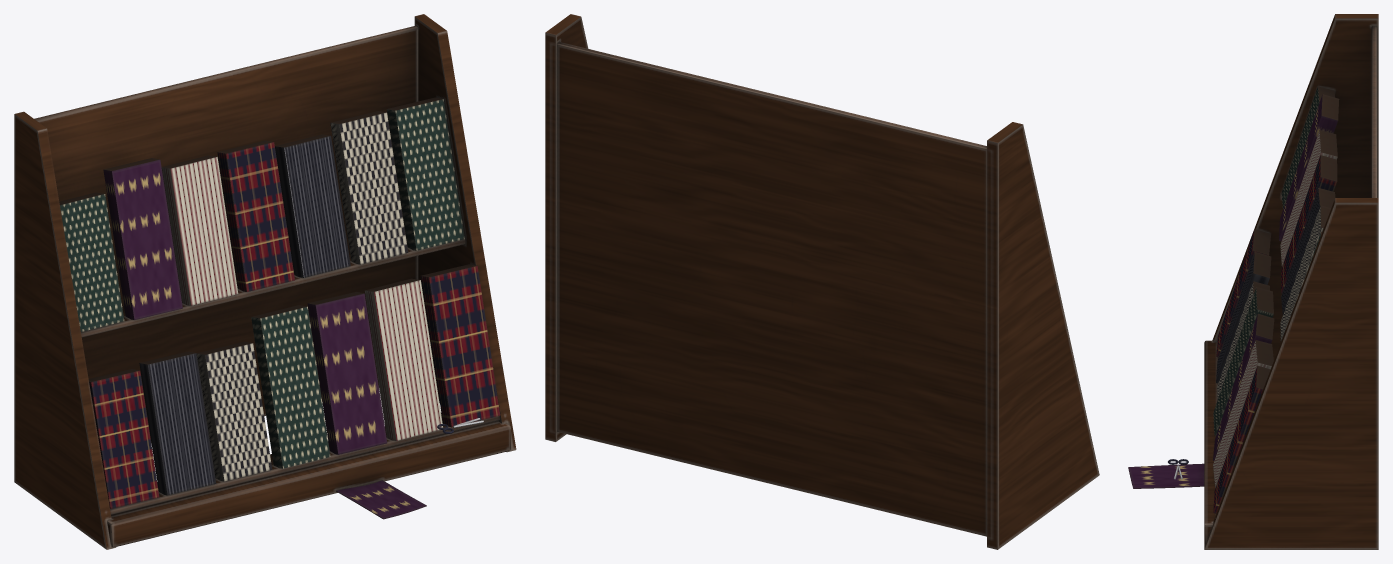
File: FabricBolts.fbx
3 views of the same model, side by side, from view 1: azimuth 30°, elevation 25°; view 2: azimuth 150°, elevation 25°; view 3: azimuth 270°, elevation 25° (orthographic). The views are drawn at different scales.
Visible parts, largest first — view 1: FabricBolts; view 2: FabricBolts; view 3: FabricBolts.
Part boxes in pixels (bbox=[...]): FabricBolts: bbox=[14, 14, 516, 549]; FabricBolts: bbox=[545, 14, 1099, 549]; FabricBolts: bbox=[1128, 14, 1378, 549].
Bounding box in the file's own units: 512 × 440 × 287.
